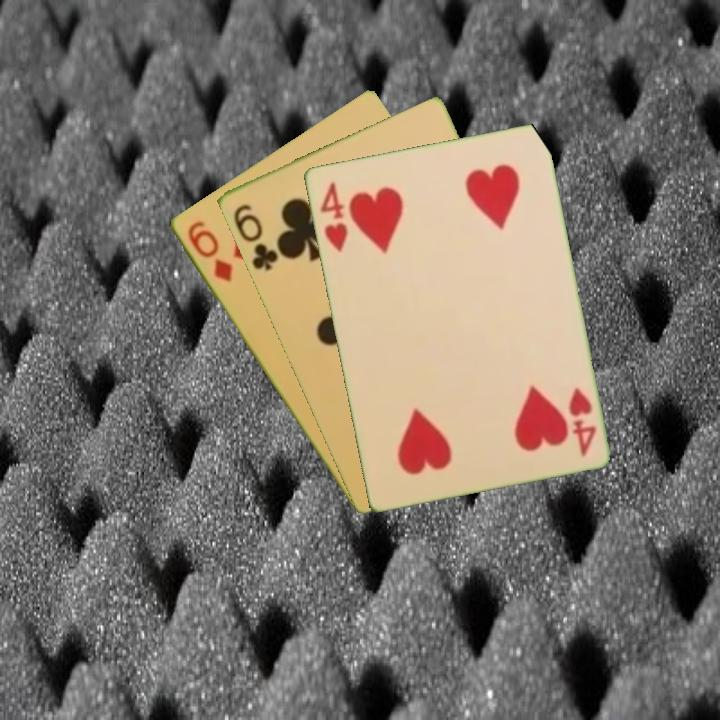4h: (315, 178, 350, 255), (564, 383, 599, 460)
6c: (229, 200, 281, 274)
6d: (183, 217, 235, 285)
